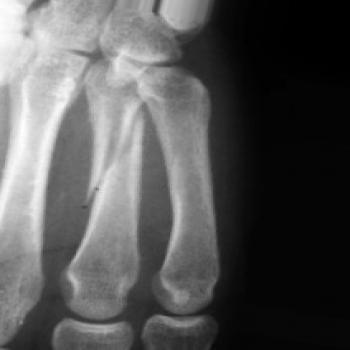Fracture: (71, 108, 144, 208)
